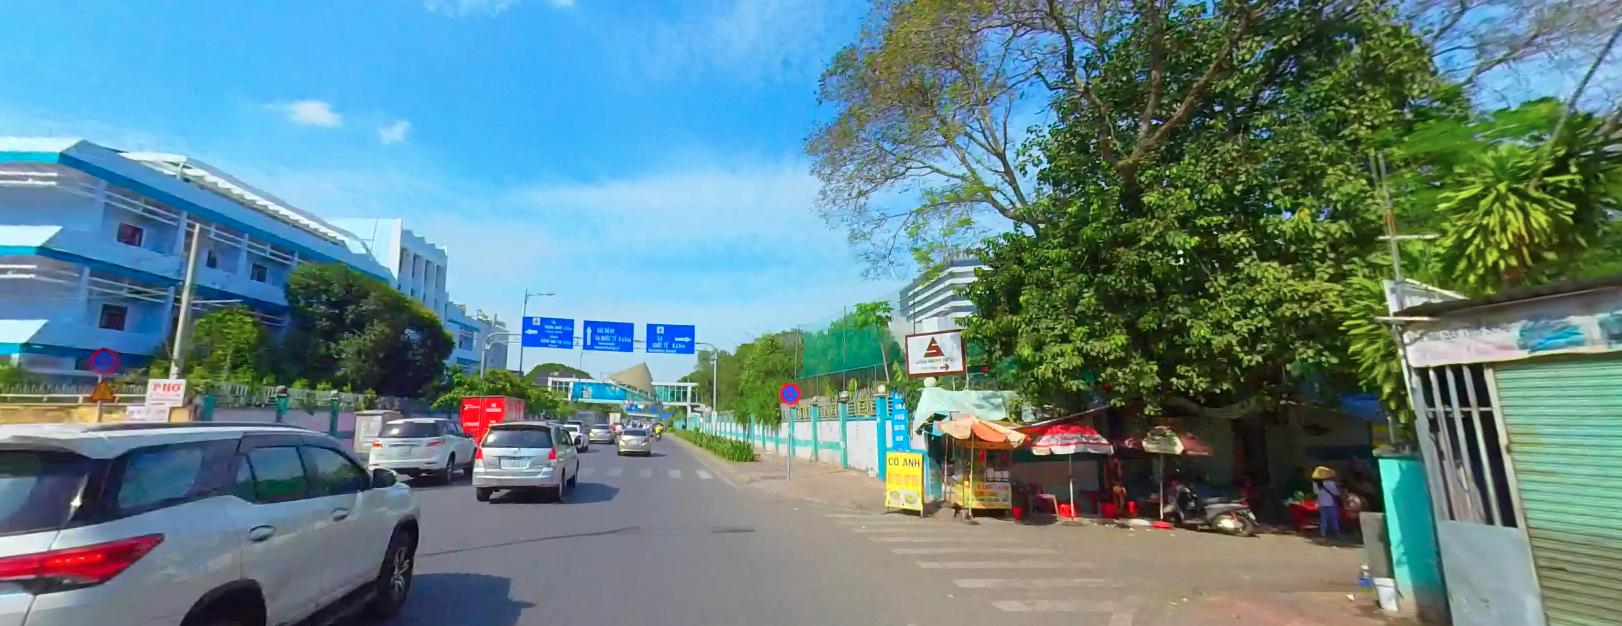Cam dung va do: (90, 346, 118, 372), (778, 381, 800, 403)
Nguy hiem: (87, 378, 114, 400)
